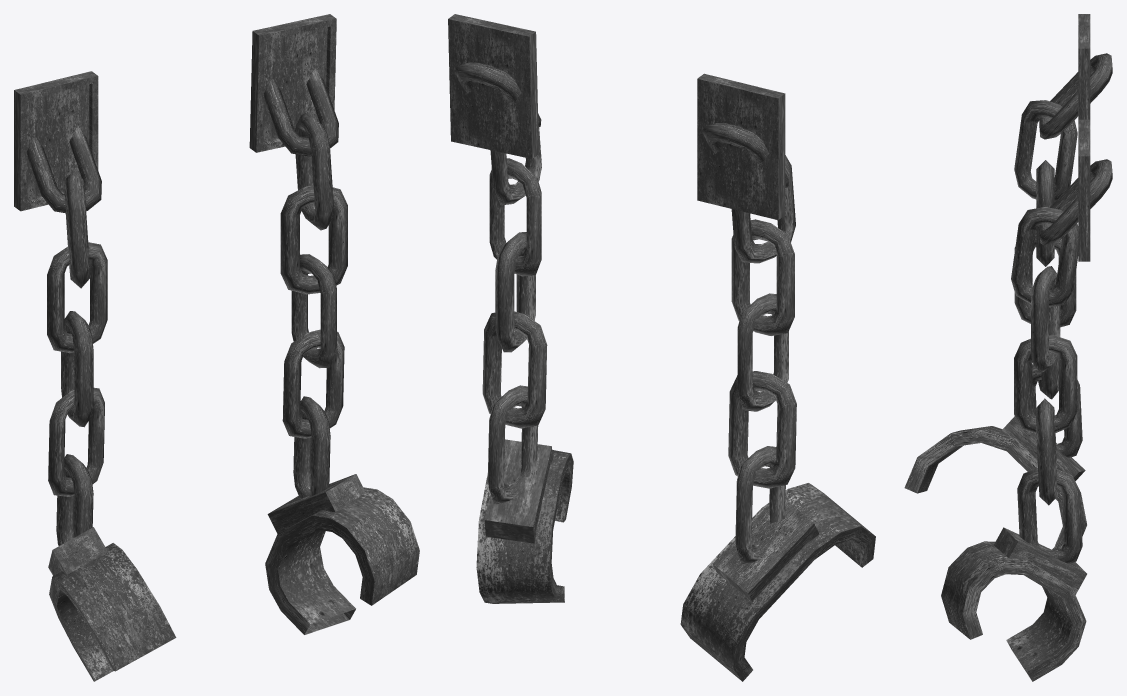
Rendered from Chain2full.obj.
3 views of the same model, side by side, from view 1: azimuth 30°, elevation 25°; view 2: azimuth 150°, elevation 25°; view 3: azimuth 270°, elevation 25° (orthographic). The views are drawn at different scales.
Visible parts, largest first — view 1: chain_2, end, cubes_2; view 2: chain_2, cubes_2, end; view 3: chain_2, end, cubes_2.
Boxes of the visible parts, x1,y1,x2,y2 form: chain_2: (26, 68, 347, 545); end: (49, 487, 419, 681); cubes_2: (14, 14, 365, 575); chain_2: (455, 62, 796, 564); cubes_2: (448, 14, 819, 601); end: (476, 450, 875, 681); chain_2: (1011, 53, 1112, 563); end: (904, 426, 1086, 681); cubes_2: (994, 14, 1090, 594).
Size of the model in its own units: 9.57 by 15.6 by 5.45.
1 material, 1 textured.
